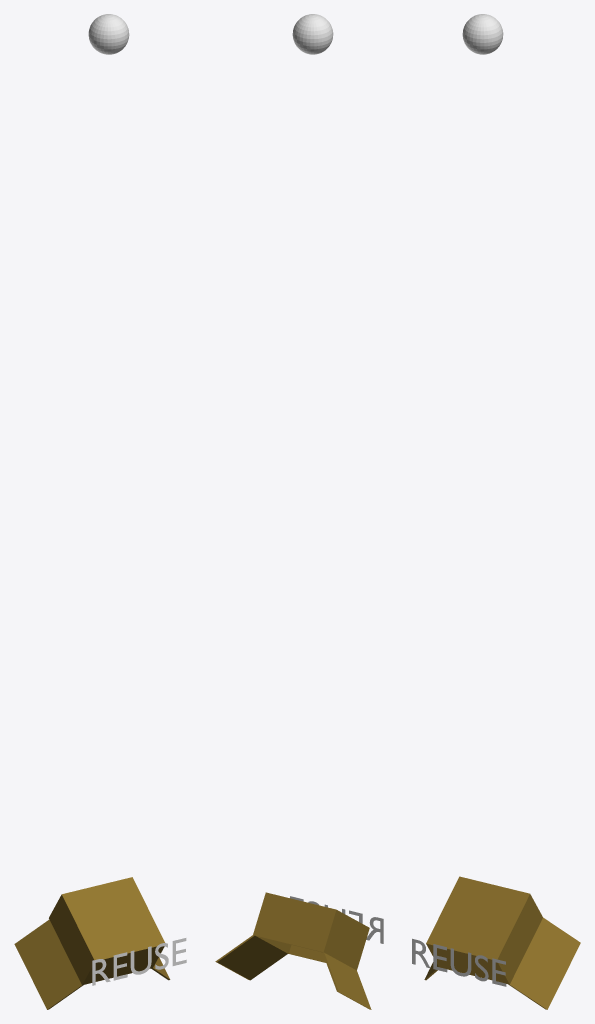
The model's file is reuse.fbx.
3 views of the same model, side by side, from view 1: azimuth 30°, elevation 25°; view 2: azimuth 150°, elevation 25°; view 3: azimuth 330°, elevation 25° (orthographic).
Visible parts, largest first — view 1: Cube, Sphere, Text; view 2: Cube, Sphere, Text; view 3: Cube, Sphere, Text.
Part boxes in pixels (x1,y1,x2,y2): Cube: (14,877,170,1009); Sphere: (88,14,129,54); Text: (92,938,186,985); Cube: (215,892,371,1009); Sphere: (292,14,333,54); Text: (290,896,383,943); Cube: (424,876,580,1009); Sphere: (462,14,503,54); Text: (412,938,506,986).
Bounding box in the file's own units: 348 × 2645 × 304.
